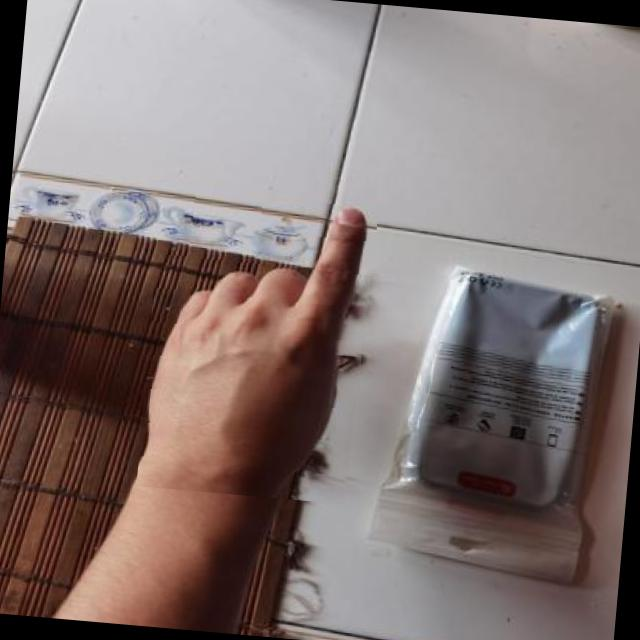T: (136, 168, 381, 504)
